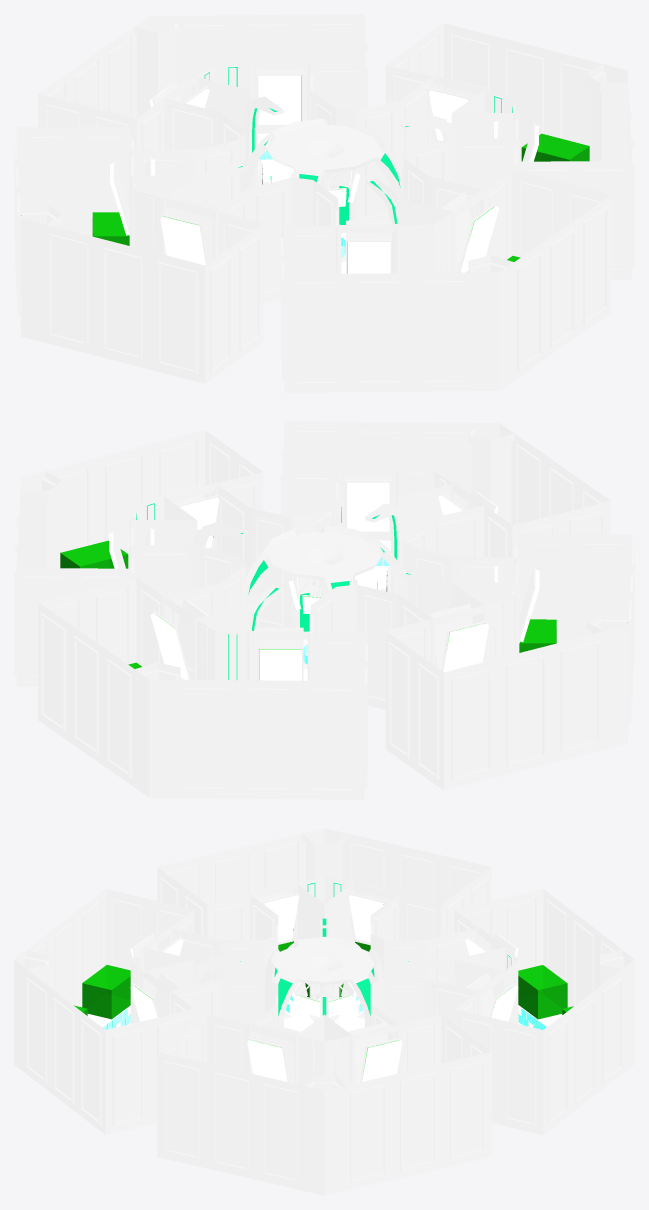
The model's file is hall.glb.
3 views of the same model, one above another, from view 1: azimuth 30°, elevation 25°; view 2: azimuth 150°, elevation 25°; view 3: azimuth 270°, elevation 25° (orthographic). The views are drawn at different scales.
Visible parts, largest first — view 1: Circle, VLights.014, VLights.019, VLights.006, BoothB3, VLights.008, BoothD6, VLights.011; view 2: Circle, VLights.007, VLights.017, VLights.016, BoothB4, VLights.013, BoothD1, VLights.010; view 3: Circle, BoothA2, BoothC5, VLights.009, VLights.012, VLights.018, VLights.020, VLights.013, VLights.008.
Boxes of the visible parts, left/top/right/bottom form: Circle: left=14, top=14, right=634, bottom=392; VLights.014: left=258, top=75, right=300, bottom=124; VLights.019: left=160, top=216, right=205, bottom=265; VLights.006: left=348, top=242, right=390, bottom=273; BoothB3: left=521, top=133, right=589, bottom=161; VLights.008: left=461, top=206, right=499, bottom=272; BoothD6: left=92, top=212, right=129, bottom=245; VLights.011: left=429, top=90, right=467, bottom=140; Circle: left=14, top=421, right=634, bottom=799; VLights.007: left=347, top=482, right=389, bottom=531; VLights.017: left=443, top=623, right=488, bottom=672; VLights.016: left=259, top=649, right=301, bottom=680; BoothB4: left=60, top=540, right=128, bottom=568; VLights.013: left=150, top=613, right=188, bottom=679; BoothD1: left=519, top=619, right=556, bottom=652; VLights.010: left=180, top=497, right=219, bottom=548; Circle: left=14, top=828, right=634, bottom=1195; BoothA2: left=518, top=965, right=567, bottom=1019; BoothC5: left=82, top=965, right=130, bottom=1019; VLights.009: left=247, top=1040, right=287, bottom=1081; VLights.012: left=362, top=1040, right=402, bottom=1081; VLights.018: left=349, top=895, right=383, bottom=942; VLights.020: left=264, top=895, right=299, bottom=942; VLights.013: left=491, top=985, right=518, bottom=1021; VLights.008: left=130, top=985, right=157, bottom=1021.
Size of the model in its own units: 135 by 26.91 by 135.
